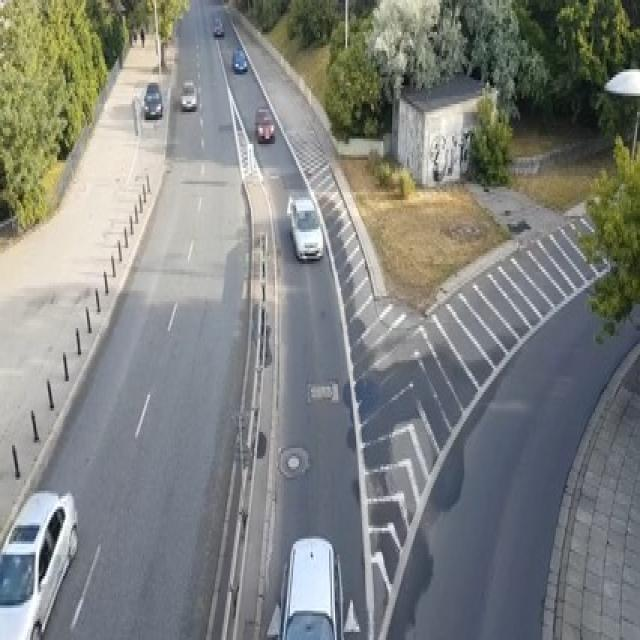car: (0, 488, 77, 637), (266, 536, 344, 637), (285, 192, 323, 261), (143, 83, 162, 117), (254, 107, 273, 141), (179, 78, 197, 110), (232, 48, 246, 72), (213, 16, 224, 37)
